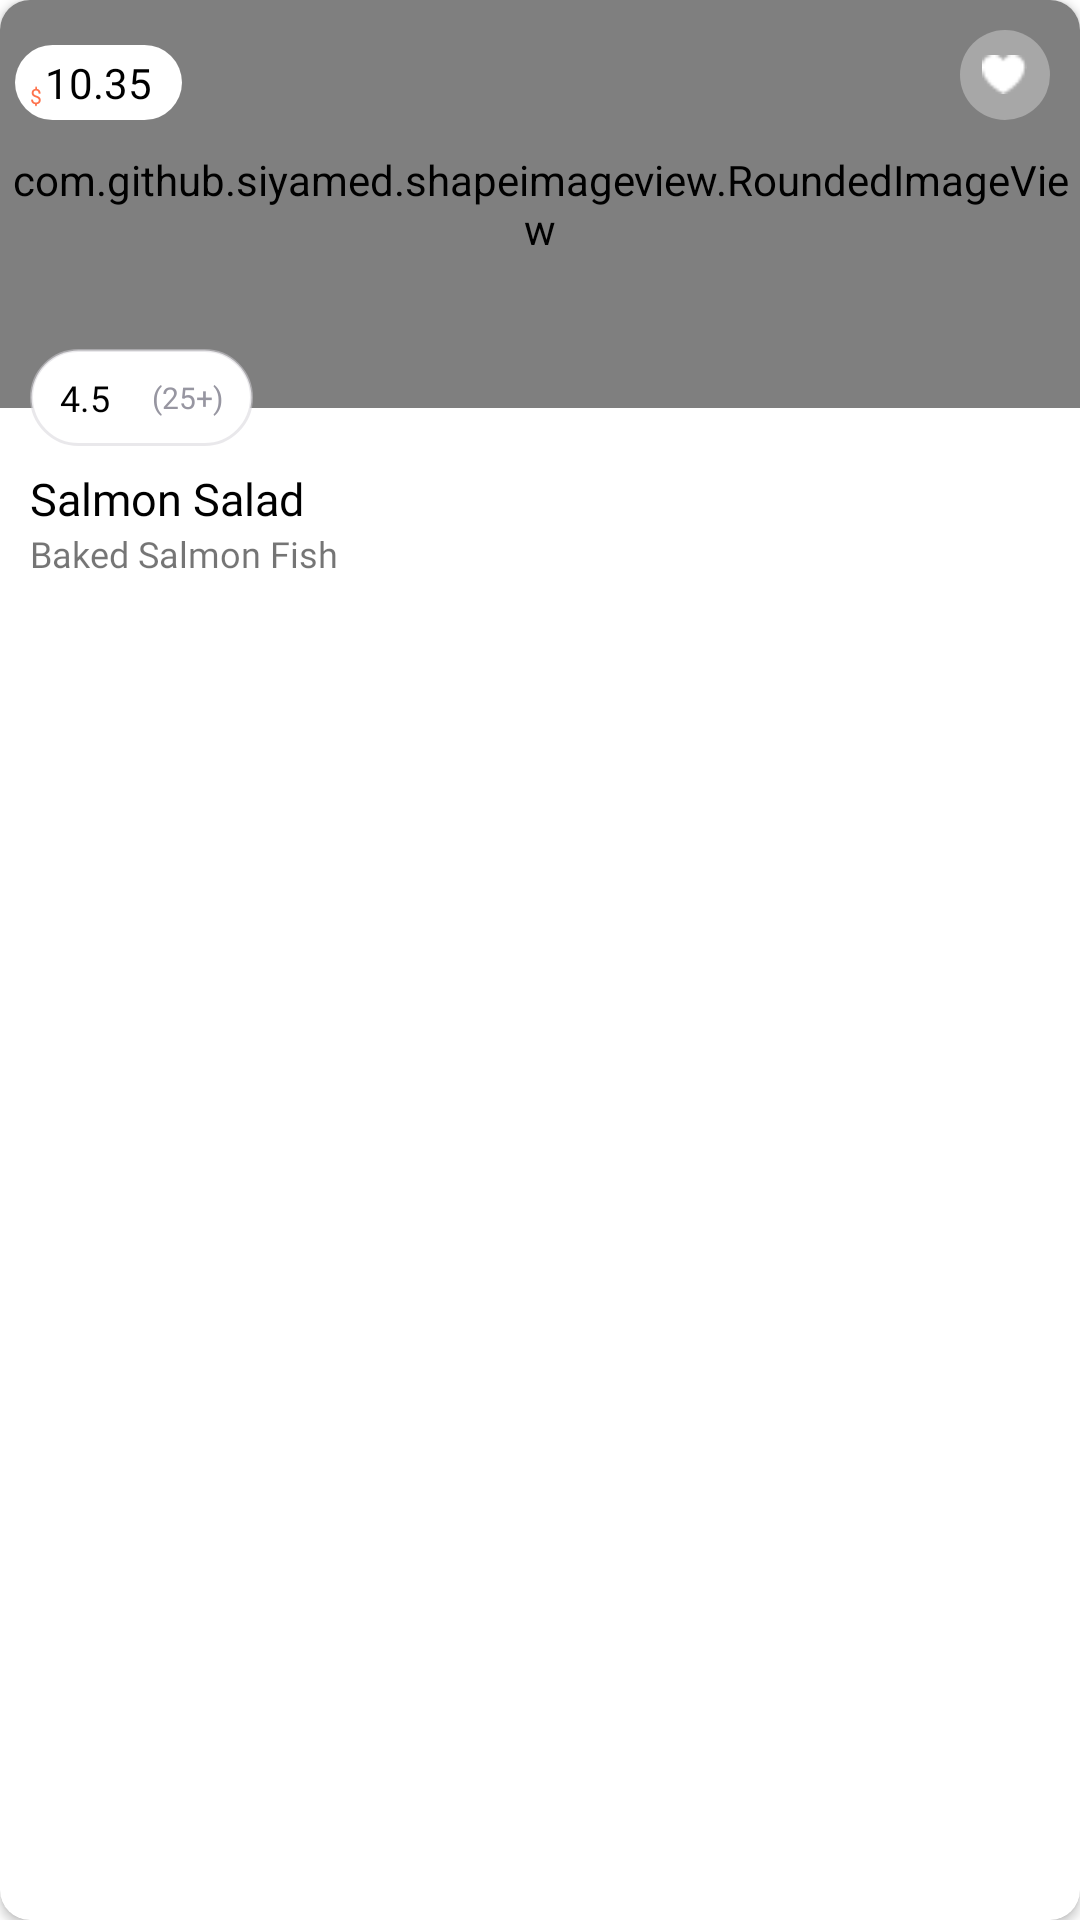

Screen size 1080w x 1920h. Icon name, then its box in pixels as (x1=x1, y1=y1, x2=x2, y2=y2):
like: (x1=982, y1=55, x2=1025, y2=94)
